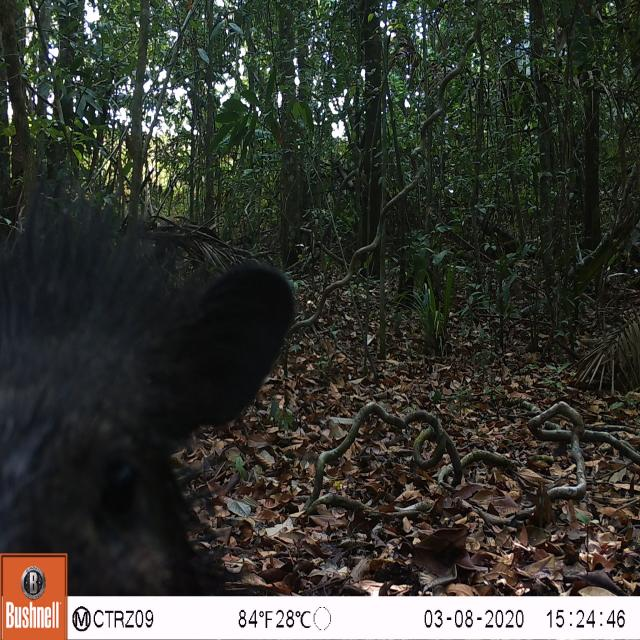Collared Peccary: (0, 147, 329, 593)
